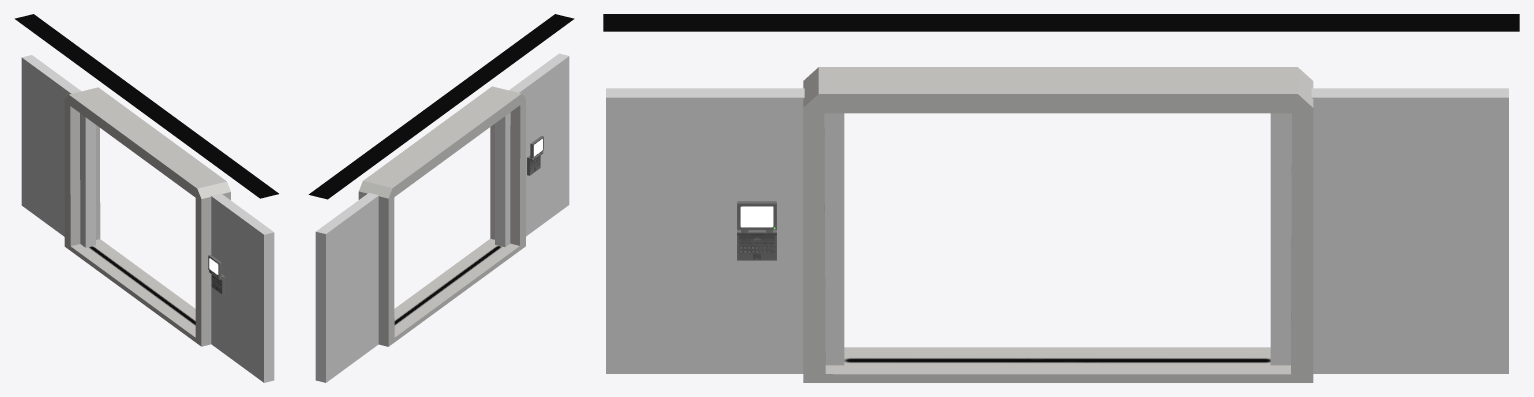
File: Pfb_LabDoor.fbx
The picture shows the model from 3 angles, left to right: view 1: azimuth 30°, elevation 25°; view 2: azimuth 150°, elevation 25°; view 3: azimuth 270°, elevation 25°; orthographic projection. The views are drawn at different scales.
Parts seen in each view (by area): view 1: LabDoor, BlackTop, Mat_Computer_01_01; view 2: LabDoor, BlackTop, Mat_Computer_01_01; view 3: LabDoor, BlackTop, Mat_Computer_01_01.
Boxes of the visible parts, x1,y1,x2,y2 form: LabDoor: (21, 55, 274, 382); BlackTop: (14, 14, 278, 198); Mat_Computer_01_01: (208, 255, 224, 294); LabDoor: (315, 53, 569, 382); BlackTop: (308, 14, 574, 199); Mat_Computer_01_01: (527, 136, 543, 175); LabDoor: (606, 67, 1508, 382); BlackTop: (603, 14, 1519, 31); Mat_Computer_01_01: (737, 201, 776, 260).
Size of the model in its own units: 0.5022 by 3 by 7.19.
3 materials, 3 textured.
